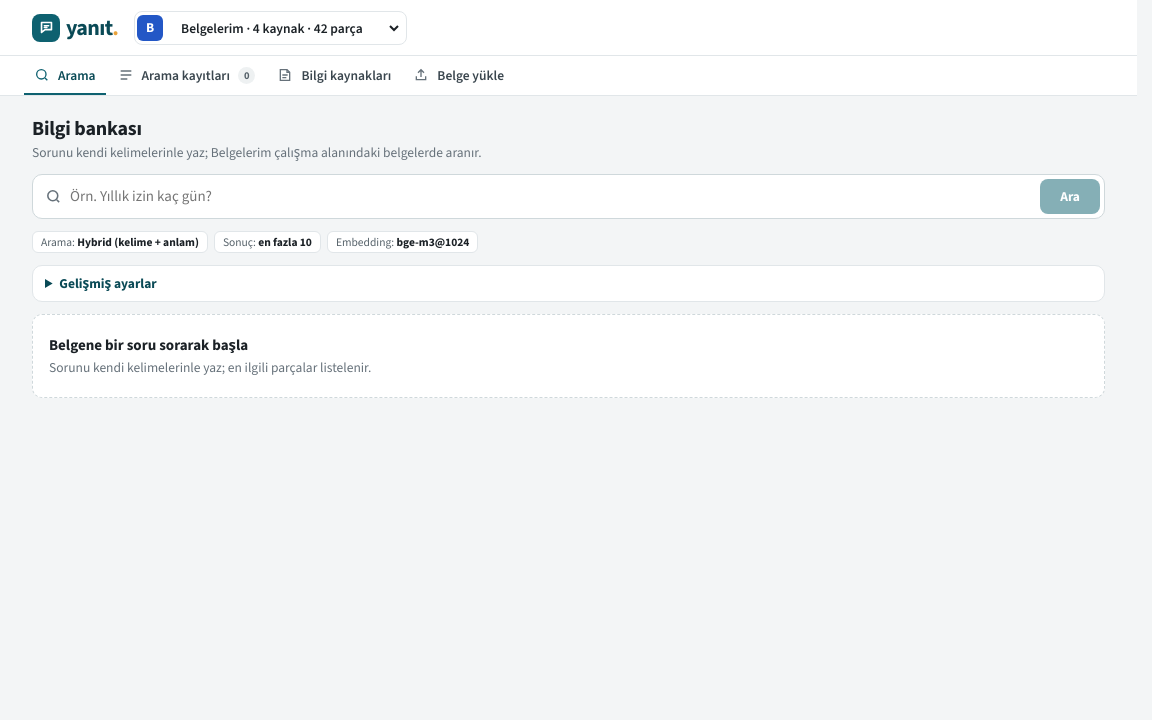
Test: SearchPage › givenValidQuery_whenPressEnter_thenPostsFullRequestWithAgentChannel
In the field named "Arama metni": (551, 196) [70, 180, 1032, 213], type "Yıllık izin kaç gün?"
Then press Enter
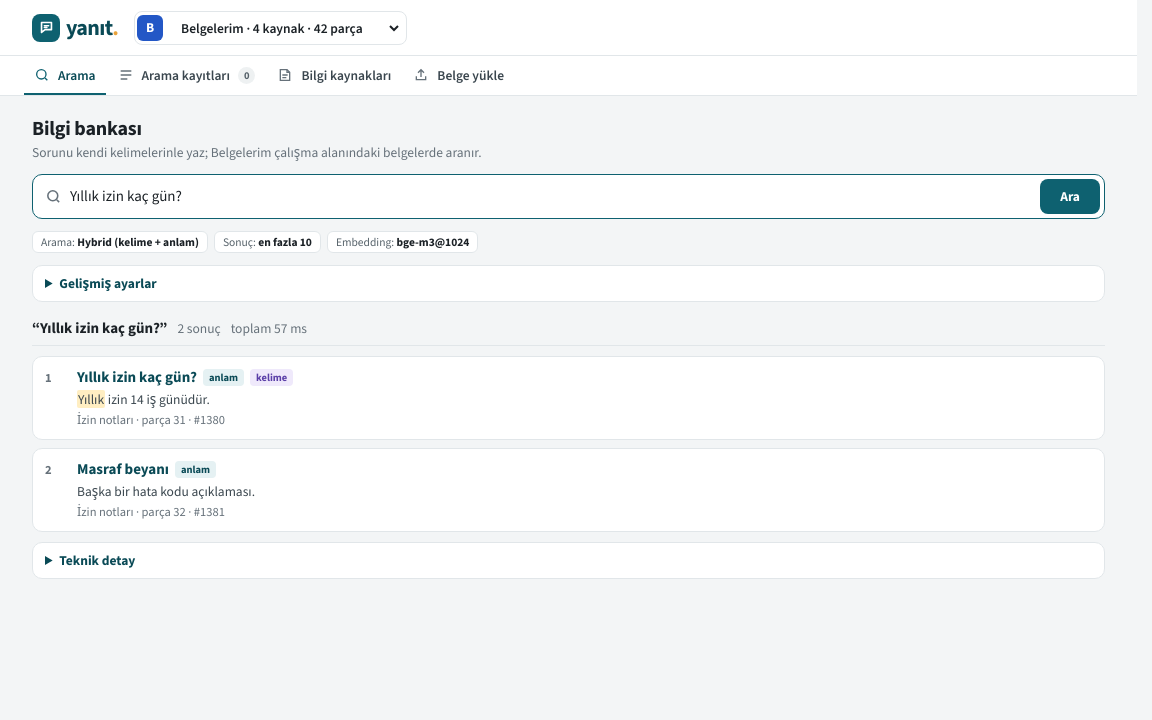
Expected: the text "Belgelerim çalışma alanındaki belgelerde aranır" is shown, [32, 143, 482, 161]
Expected: the text "2 sonuç" is shown, [177, 319, 221, 338]
